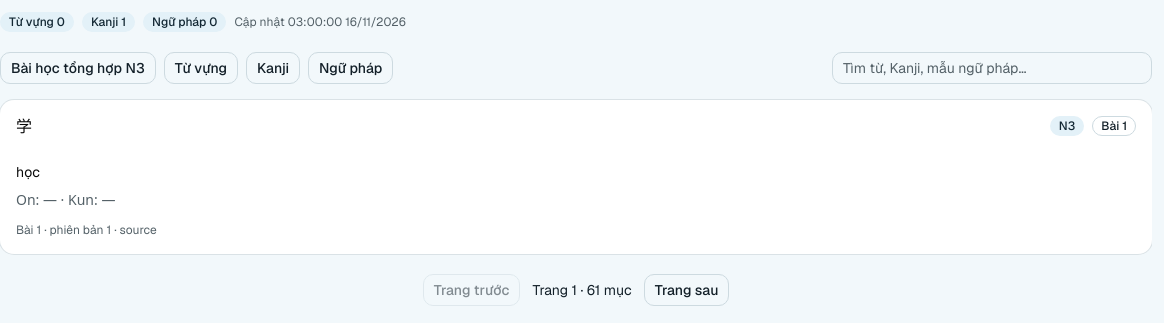
Test: learning content views › pages through real content instead of stopping at the first 60 records
Expected: the text "学" is shown, [16,116,32,137]
Click the button "Trang sau".
click(687, 290)  # box [644,274,729,306]
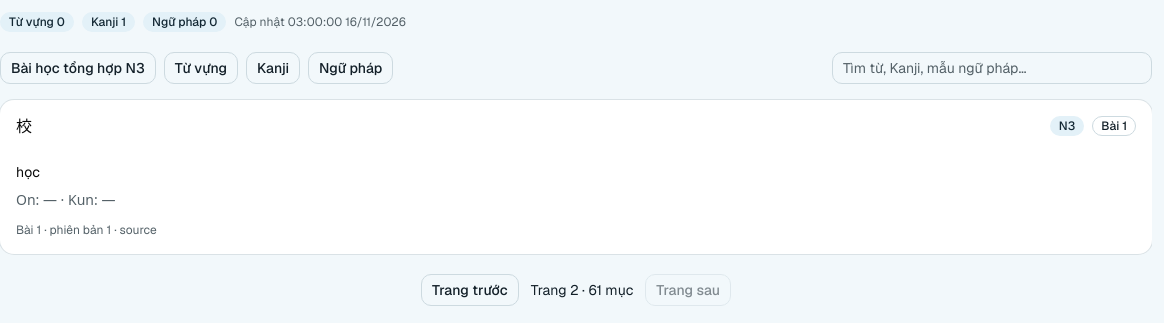
Result: the text "校" is shown at [16,116,32,137]
